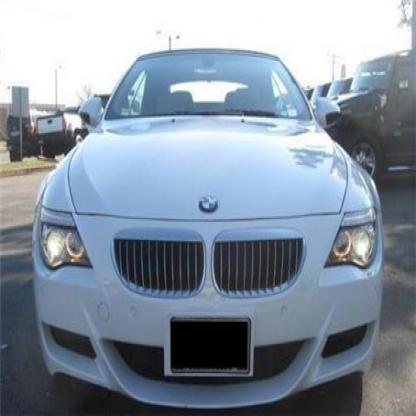Vehicle: (32, 47, 384, 412)
